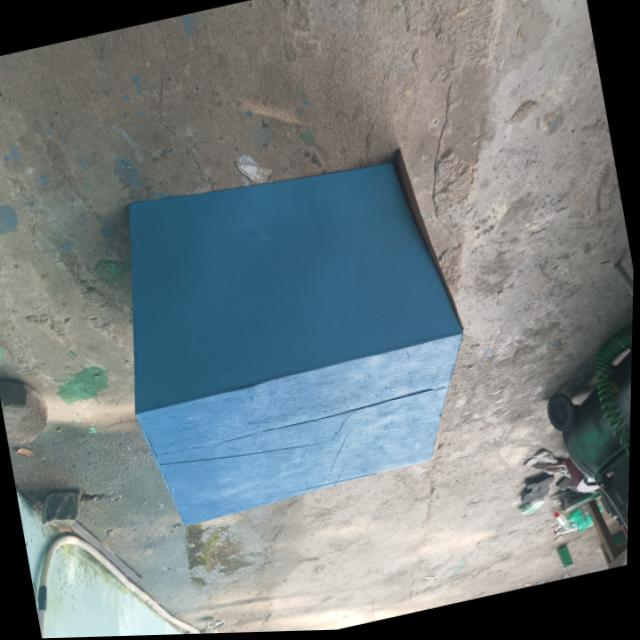blue_box: (76, 123, 518, 548)
